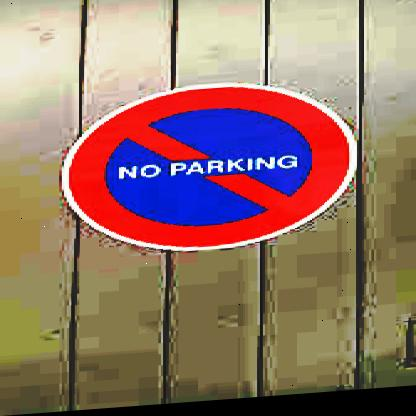No parking: (69, 65, 358, 265)
